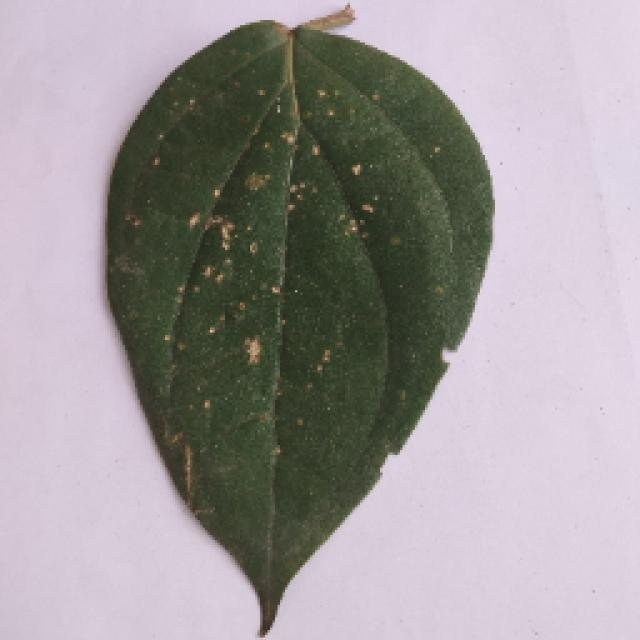pollu-disease: (87, 22, 495, 632)
